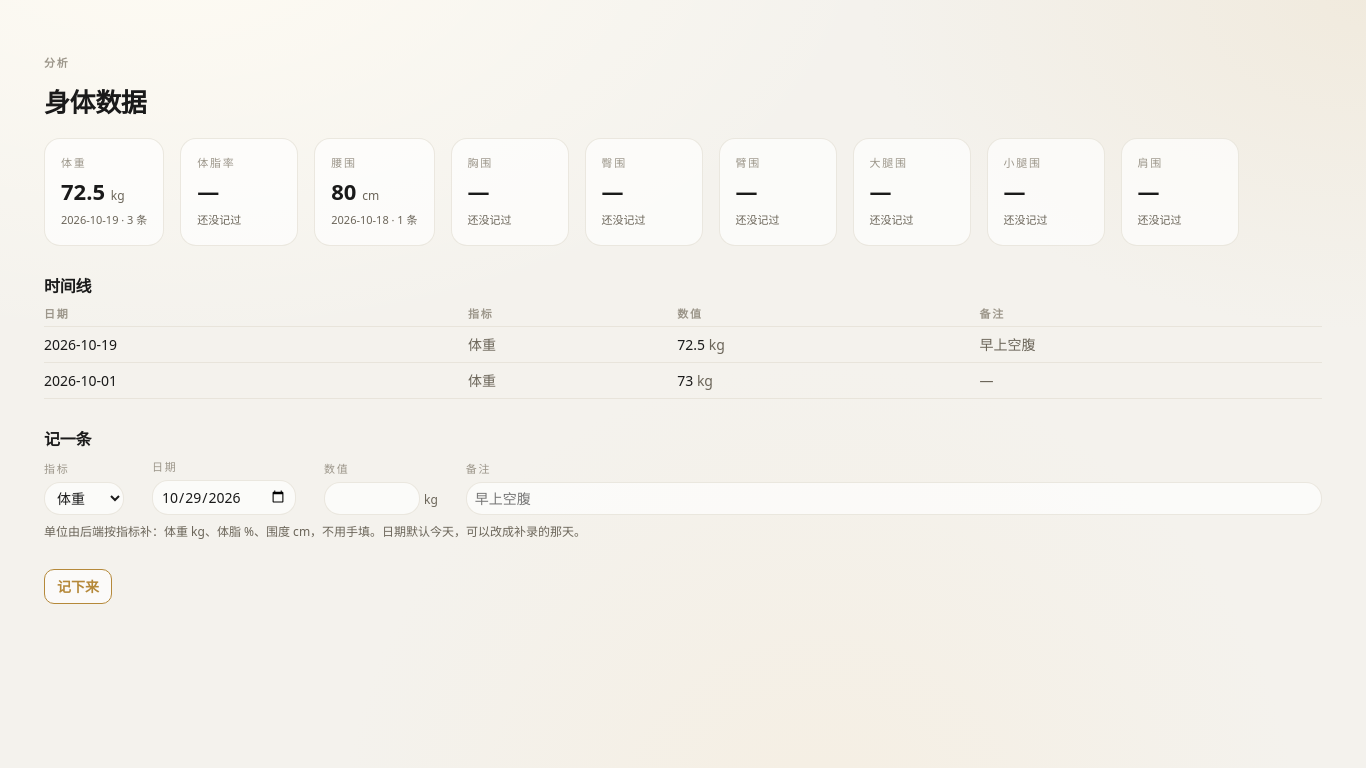
身体数据页 · 录入 › submitting_posts_the_measurement_and_refreshes_the_list
Step 1. Select "腰围" in the dropdown with class "metric-type" → (84, 498), box 44,482 -> 124,514
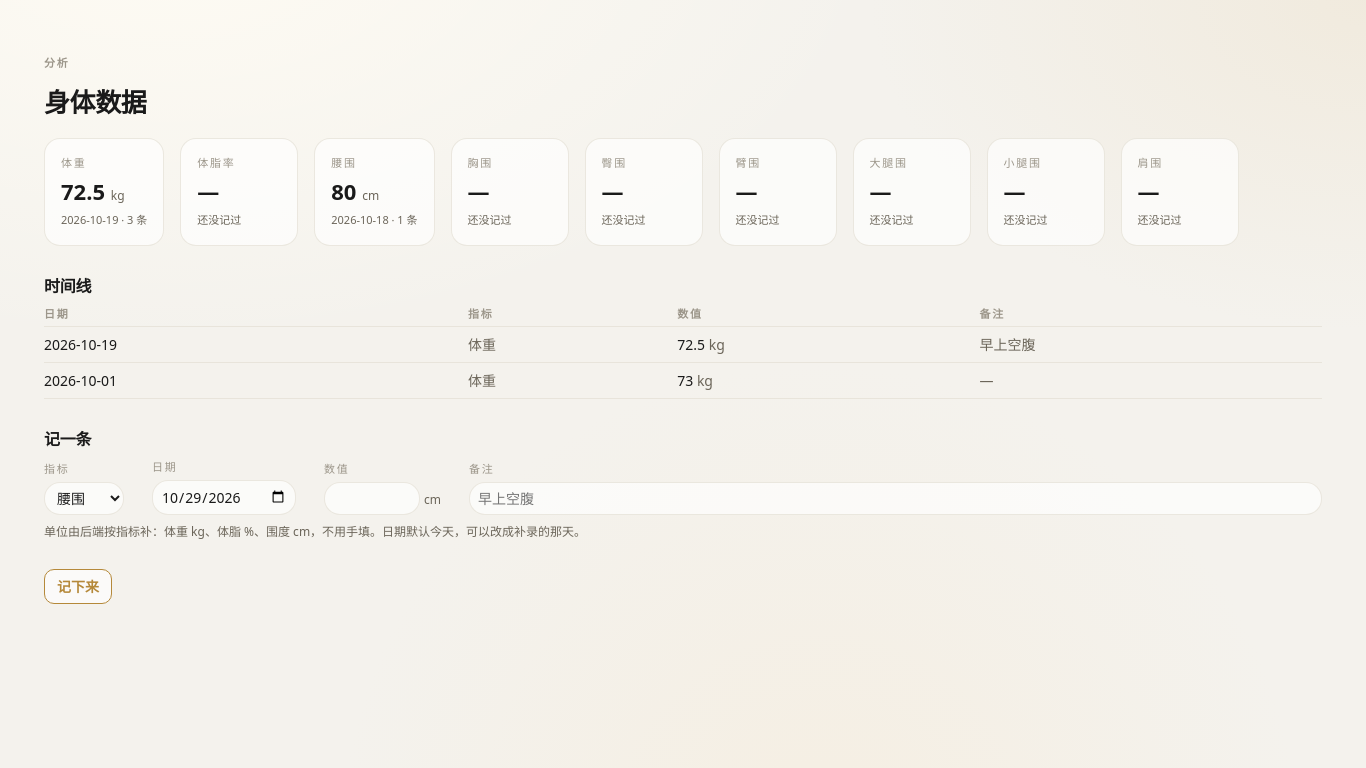
Step 2. Type "80.5" into the field labelled "数值 cm" → (372, 498), box 324,482 -> 420,514
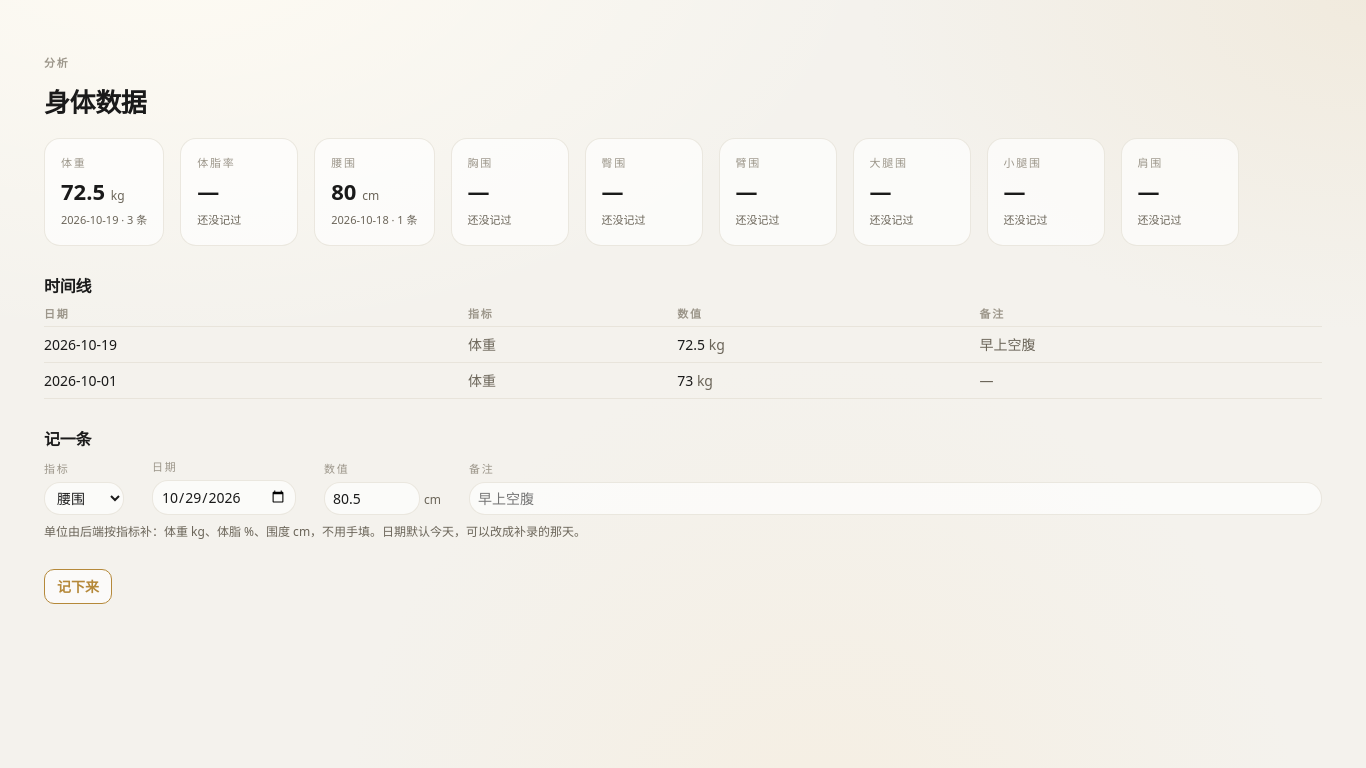
Step 3. Type "腰" into the field with class "note-input" → (896, 498), box 469,482 -> 1322,514
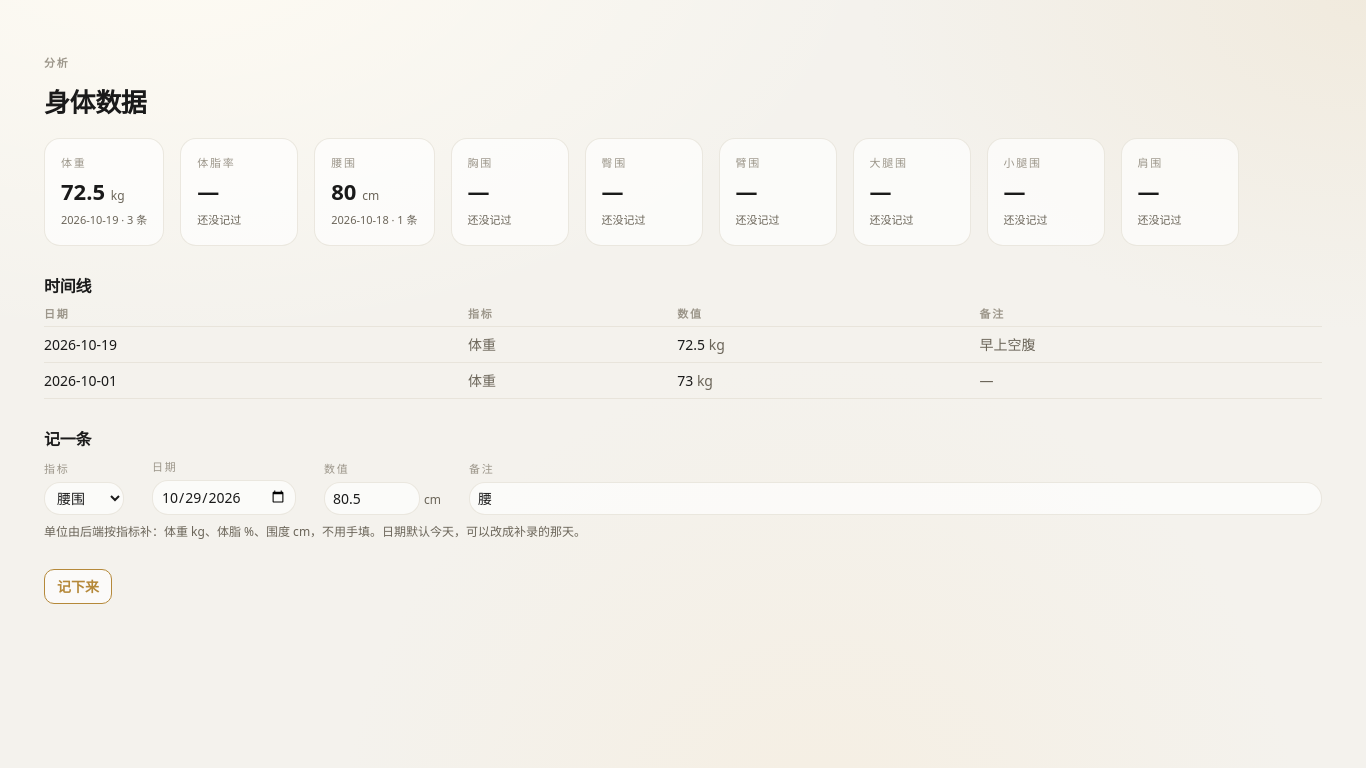
Step 4. Click the button with class "save" → click(78, 586), box 44,568 -> 112,604
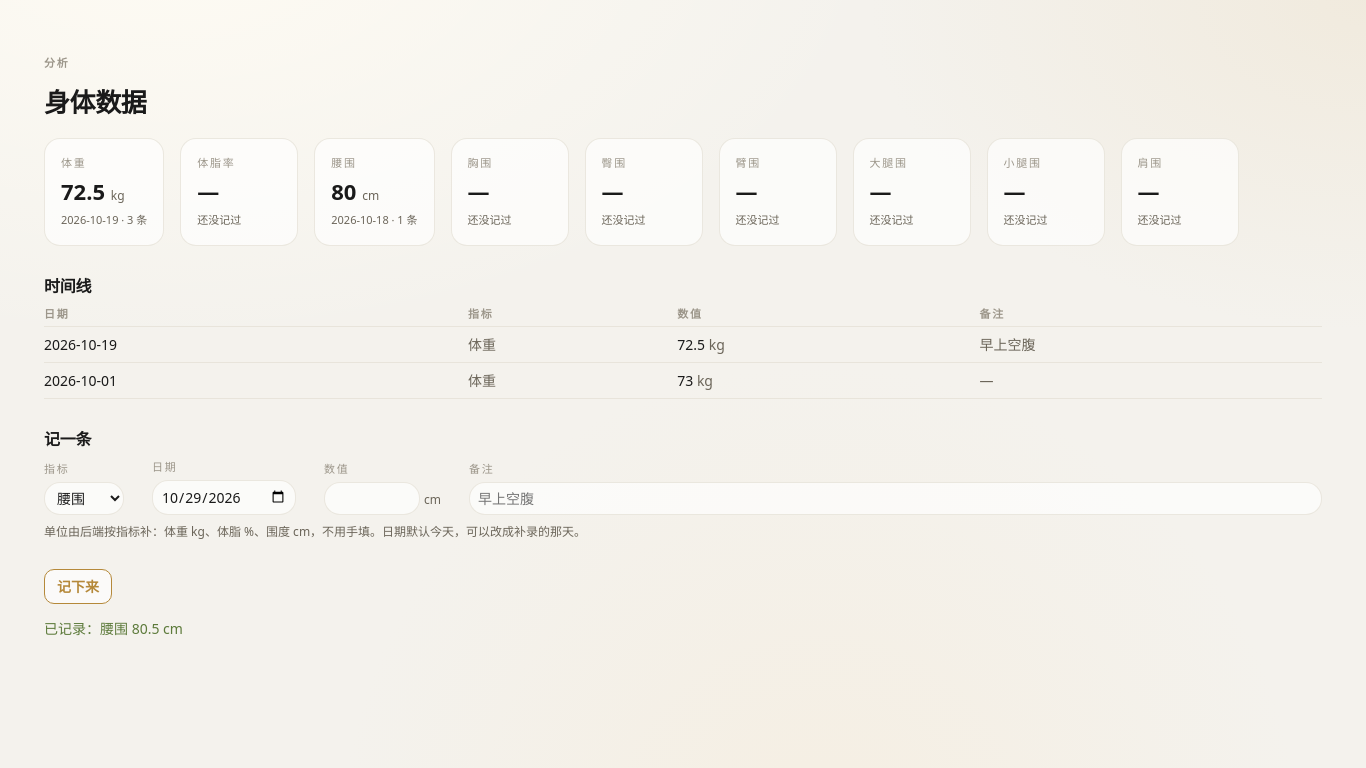
Expected: the text "已记录：腰围 80.5 cm" is shown, 44,618 -> 183,638
